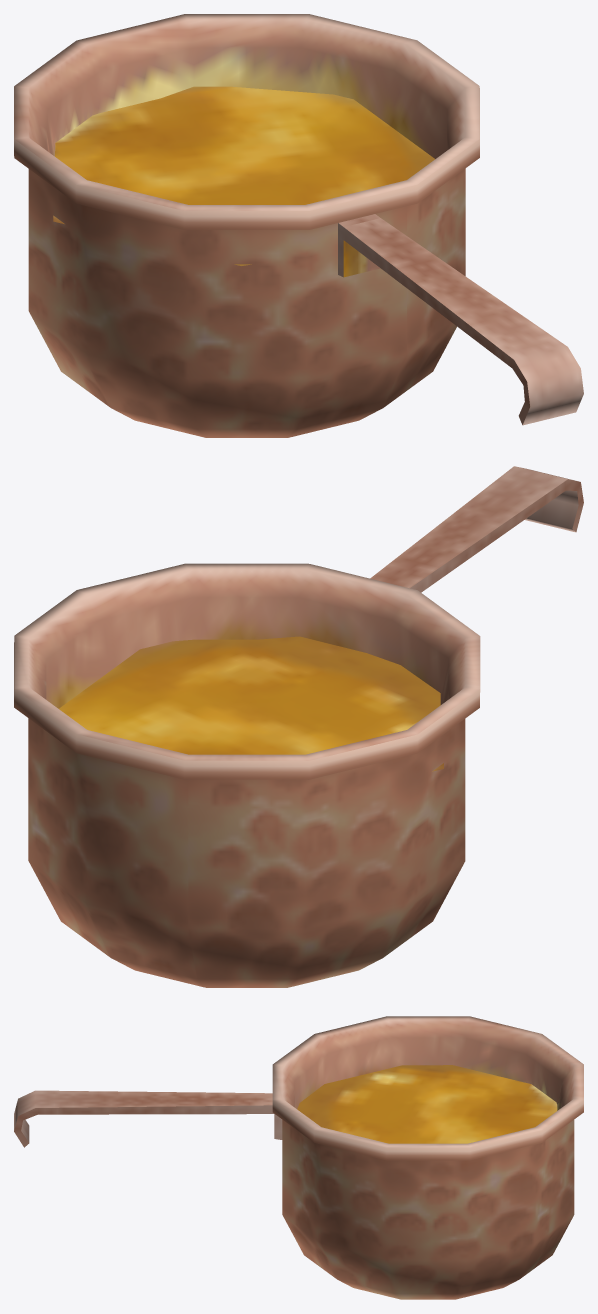
File: SaucepanOil_Copper.fbx
3 views of the same model, one above another, from view 1: azimuth 30°, elevation 25°; view 2: azimuth 150°, elevation 25°; view 3: azimuth 270°, elevation 25° (orthographic). The views are drawn at different scales.
Visible parts, largest first — view 1: SaucePan_Copper; view 2: SaucePan_Copper; view 3: SaucePan_Copper.
Part boxes in pixels (x1,y1,x2,y2): SaucePan_Copper: [14, 14, 583, 437]; SaucePan_Copper: [14, 466, 583, 987]; SaucePan_Copper: [14, 1016, 583, 1299].
Size of the model in its own units: 55.23 by 34.11 by 101.
